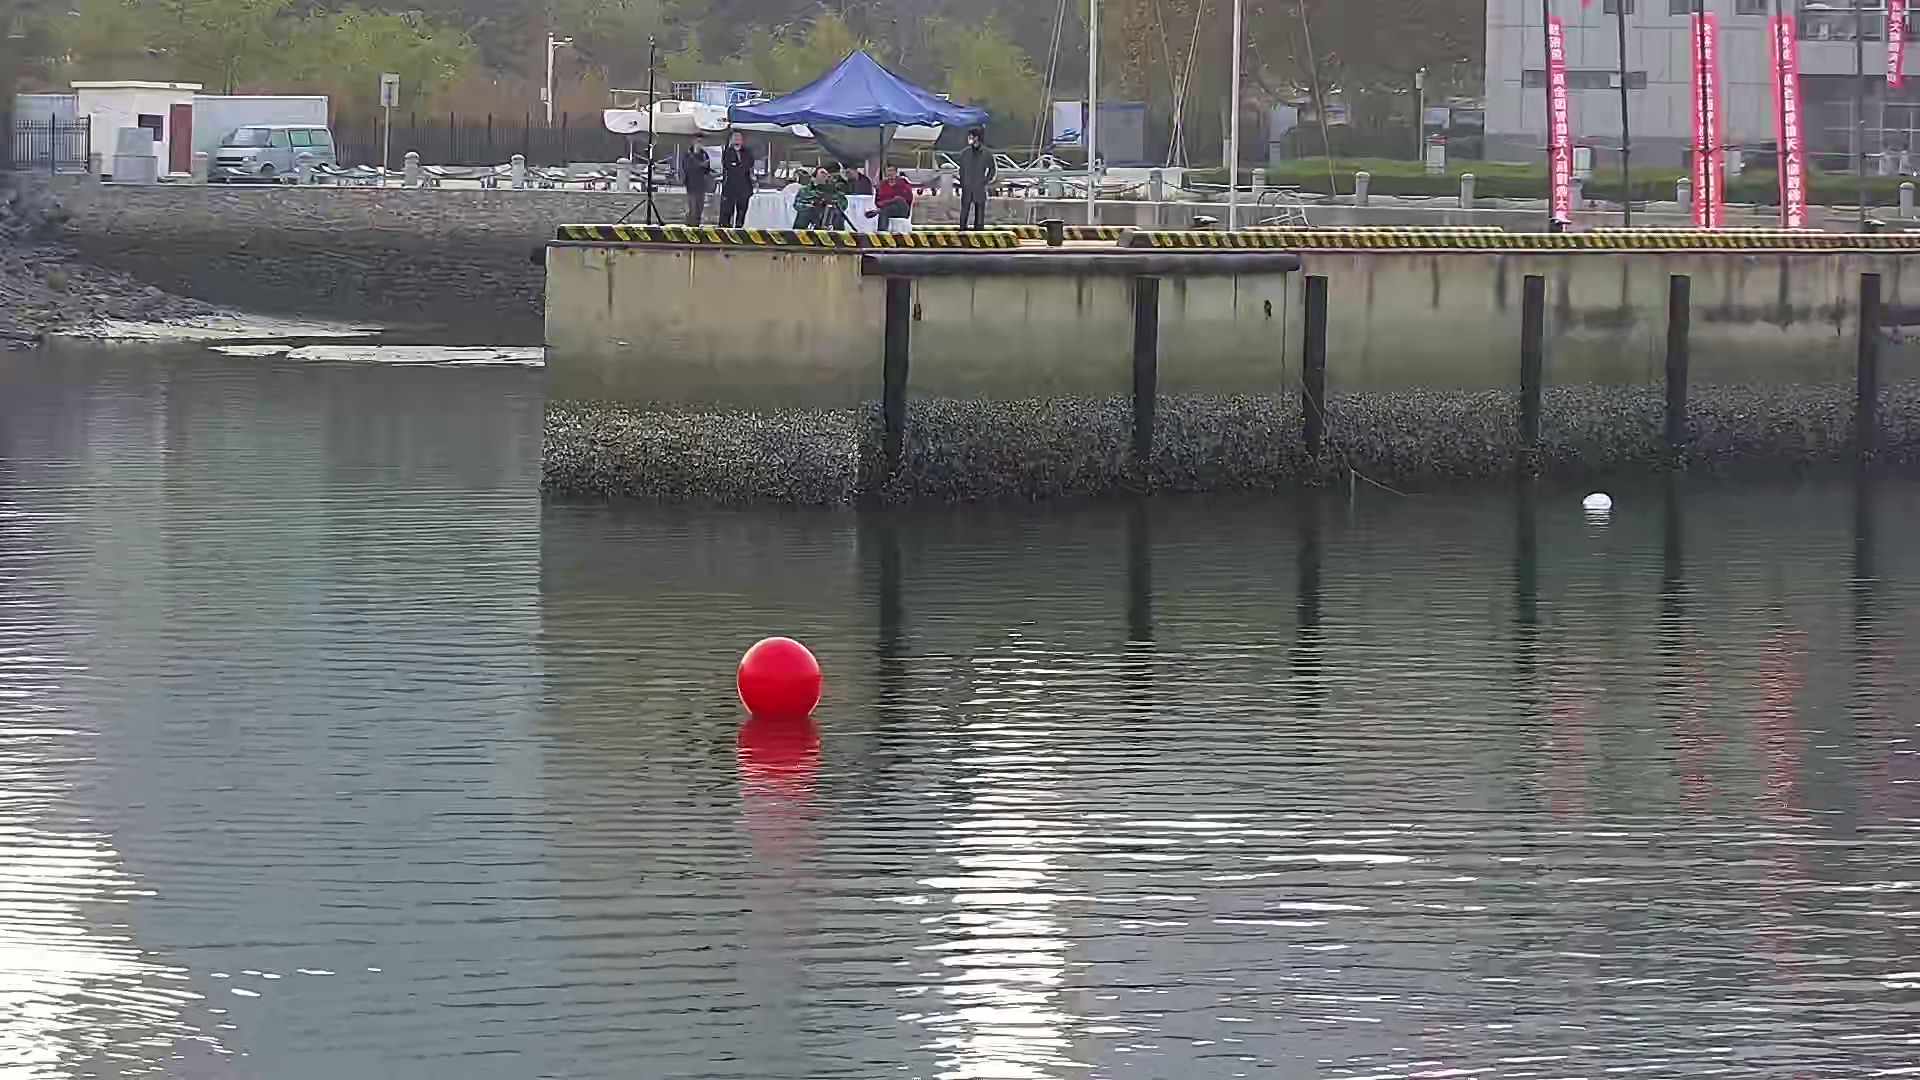ball: (733, 636, 825, 723)
rubbish: (1580, 485, 1619, 513)
